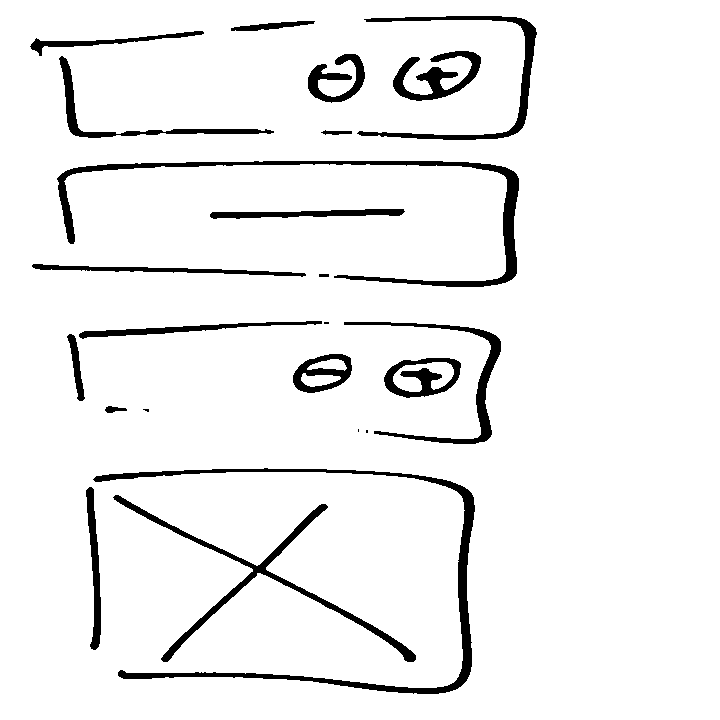button: (35, 157, 527, 291)
inline stepper bar: (37, 11, 548, 141), (66, 315, 502, 449)
picture: (80, 465, 486, 701)
